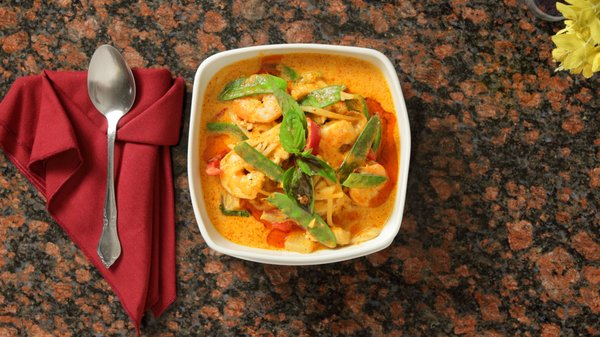salad: (87, 43, 136, 250)
sushi: (188, 44, 411, 263)
